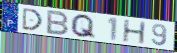1: (106, 17, 119, 42)
9: (151, 23, 168, 47)
B: (45, 9, 70, 36)
D: (21, 7, 44, 32)
H: (121, 19, 147, 45)
Q: (69, 13, 97, 40)
